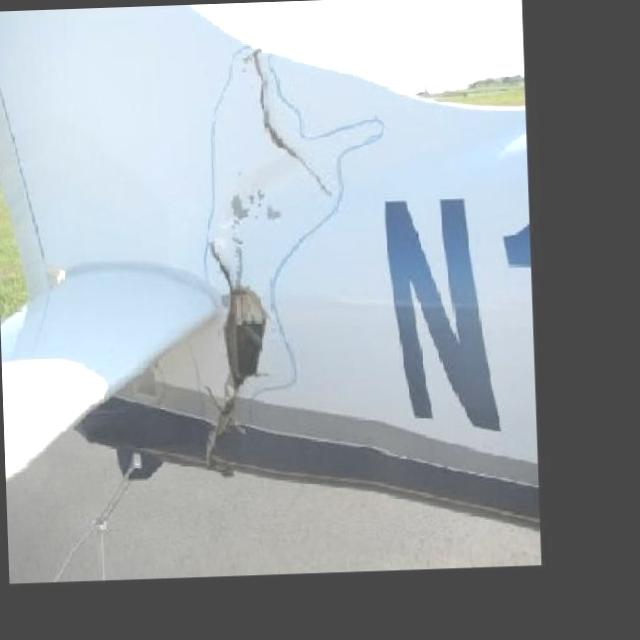crack: (241, 88, 324, 216)
